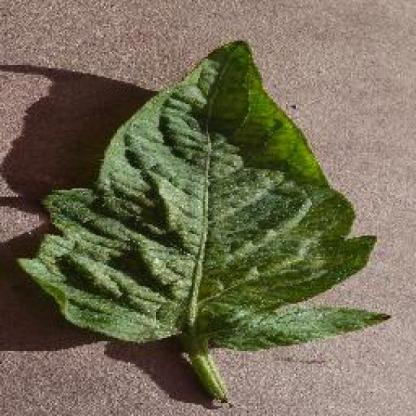Tomato_Spider_Mites: (20, 42, 388, 349)
